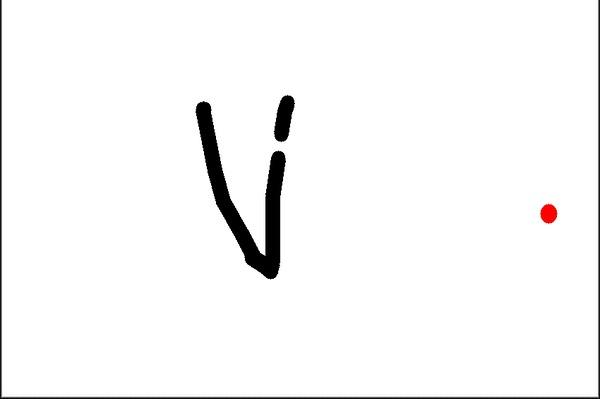V: (187, 86, 302, 286)
